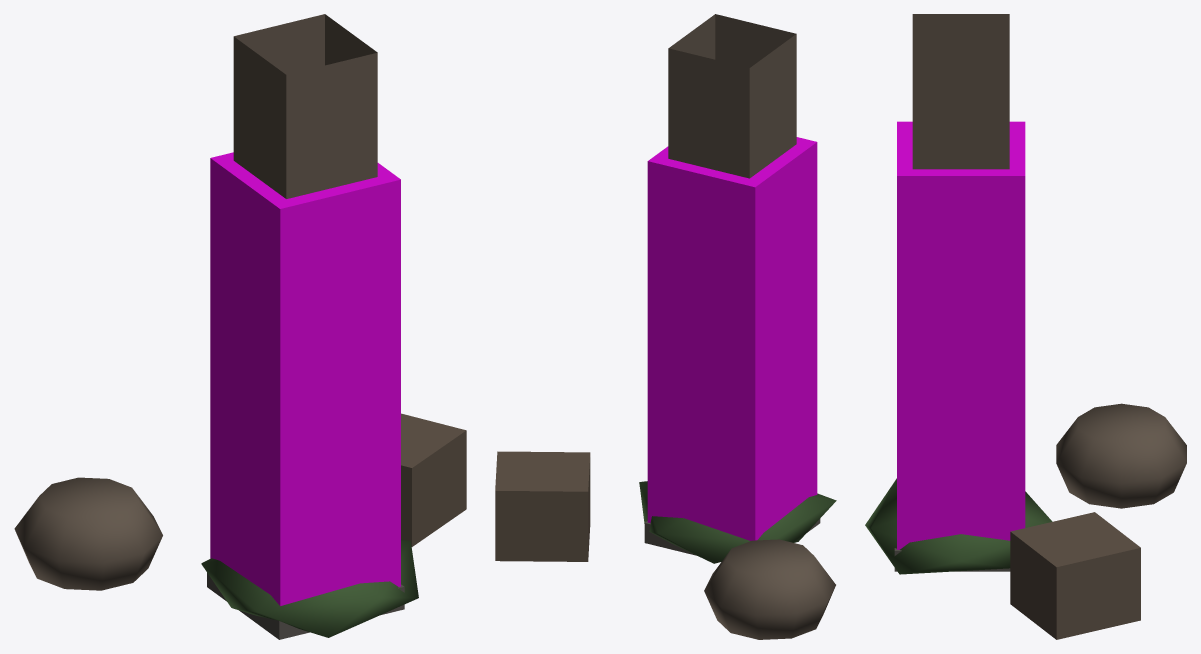
The model's file is ENV_Ruin_Pillar_Broken_A.glb.
3 renders of one model, left to right at view 1: azimuth 30°, elevation 25°; view 2: azimuth 150°, elevation 25°; view 3: azimuth 270°, elevation 25°, orthographic. The views are drawn at different scales.
Parts seen in each view (by area): view 1: COL_Pillar, ENV_Ruin_Pillar_Broken_A_Mesh; view 2: COL_Pillar, ENV_Ruin_Pillar_Broken_A_Mesh; view 3: COL_Pillar, ENV_Ruin_Pillar_Broken_A_Mesh.
Boxes of the visible parts, x1,y1,x2,y2 form: COL_Pillar: [210, 152, 400, 606]; ENV_Ruin_Pillar_Broken_A_Mesh: [14, 14, 466, 639]; COL_Pillar: [647, 137, 817, 540]; ENV_Ruin_Pillar_Broken_A_Mesh: [495, 14, 836, 639]; COL_Pillar: [897, 121, 1025, 549]; ENV_Ruin_Pillar_Broken_A_Mesh: [865, 14, 1186, 639].
Bounding box in the file's own units: 1.88 × 2.48 × 1.4.
